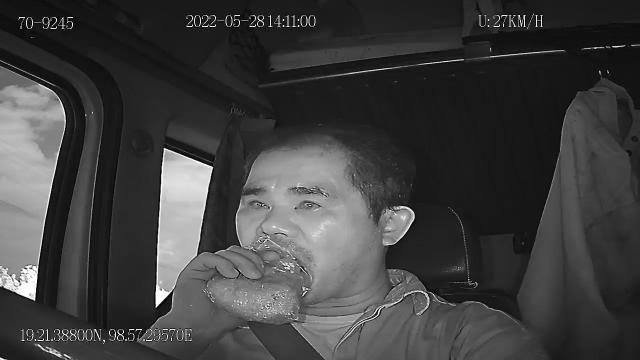SafeDriving: (288, 187, 330, 216), (239, 188, 275, 216)
Seatbelt: (244, 312, 330, 360)
